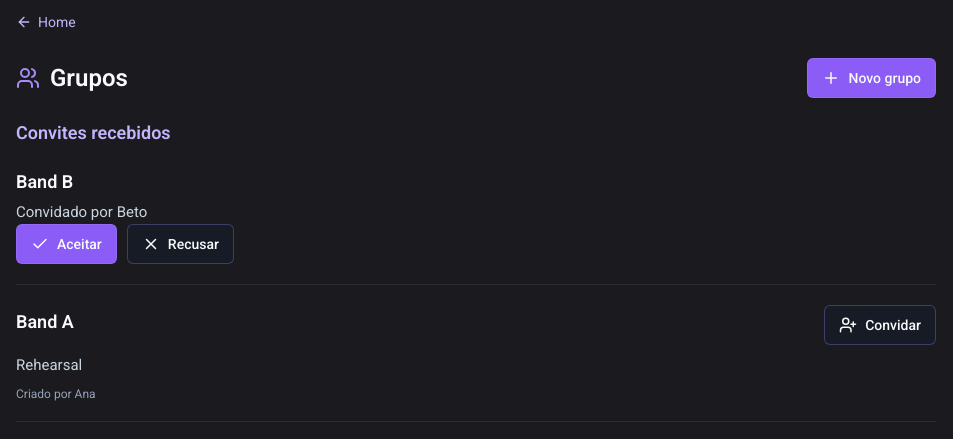
Scenario: responds to an invitation and refreshes groups when accept=false
This screenshot has width=953, height=439.
Click the button "Recusar".
click(180, 244)  # box [127,224,234,264]
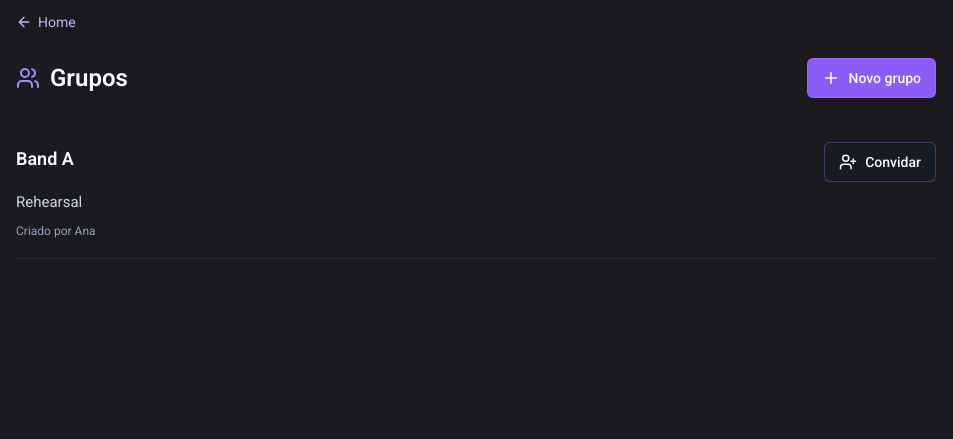
Expected: the heading "Convites recebidos" is gone
Expected: the heading "Band B" is gone
